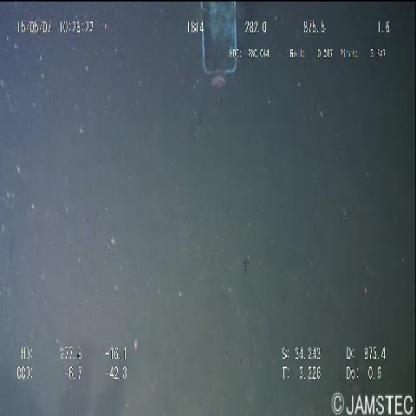Rác: (196, 1, 242, 84)
